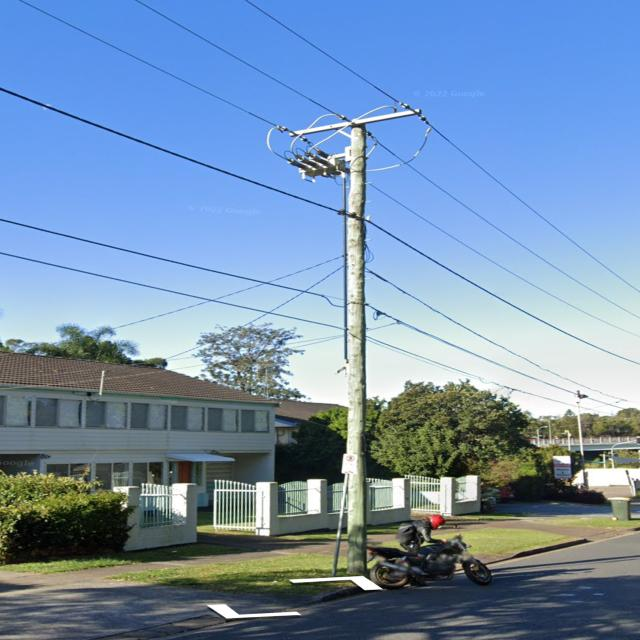HV-switch: (283, 146, 355, 182)
HV-transmission: (280, 103, 426, 141)
crossarm: (288, 107, 423, 137)
timber-pole: (345, 126, 368, 576)
